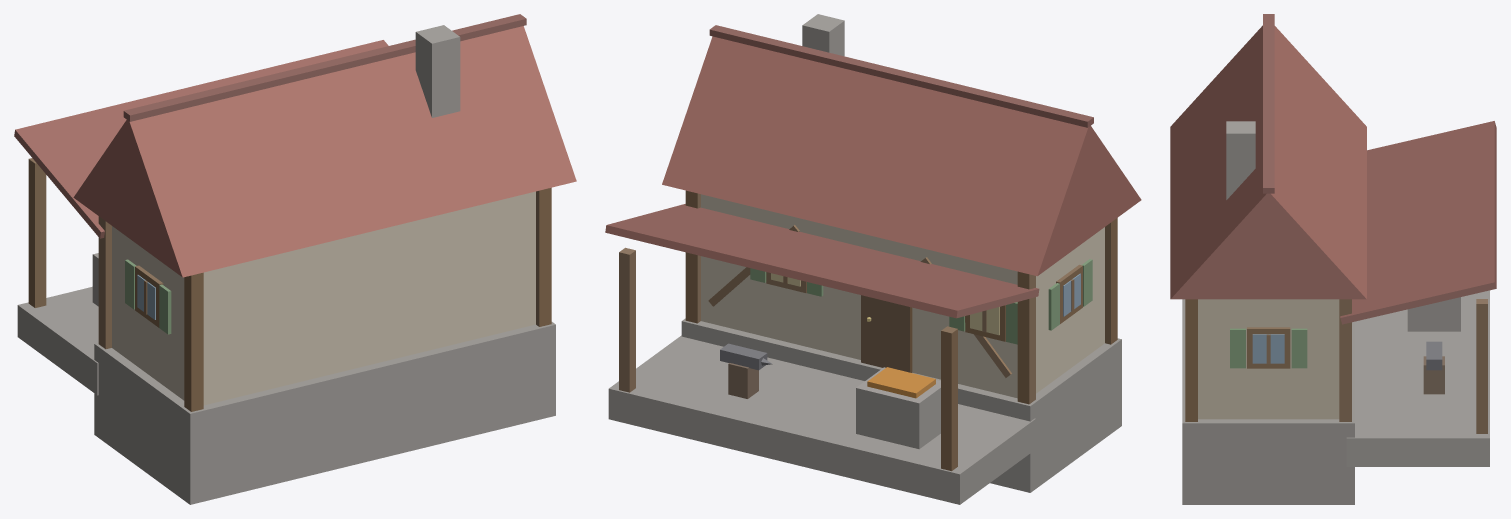
Rendered from blacksmith.glb.
The picture shows the model from 3 angles, left to right: view 1: azimuth 30°, elevation 25°; view 2: azimuth 150°, elevation 25°; view 3: azimuth 270°, elevation 25°; orthographic projection. The views are drawn at different scales.
Visible parts, largest first — view 1: blacksmith2; view 2: blacksmith2; view 3: blacksmith2.
Boxes of the visible parts, x1,y1,x2,y2 form: blacksmith2: [14, 14, 576, 504]; blacksmith2: [605, 14, 1141, 504]; blacksmith2: [1170, 14, 1496, 504].
Bounding box in the file's own units: 7.75 × 7.06 × 6.14.
